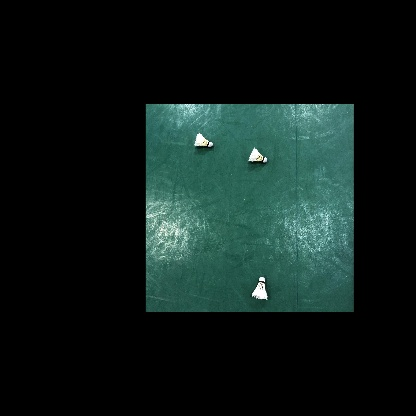ball_single: (252, 277, 267, 300), (248, 147, 267, 163), (194, 133, 213, 147)
